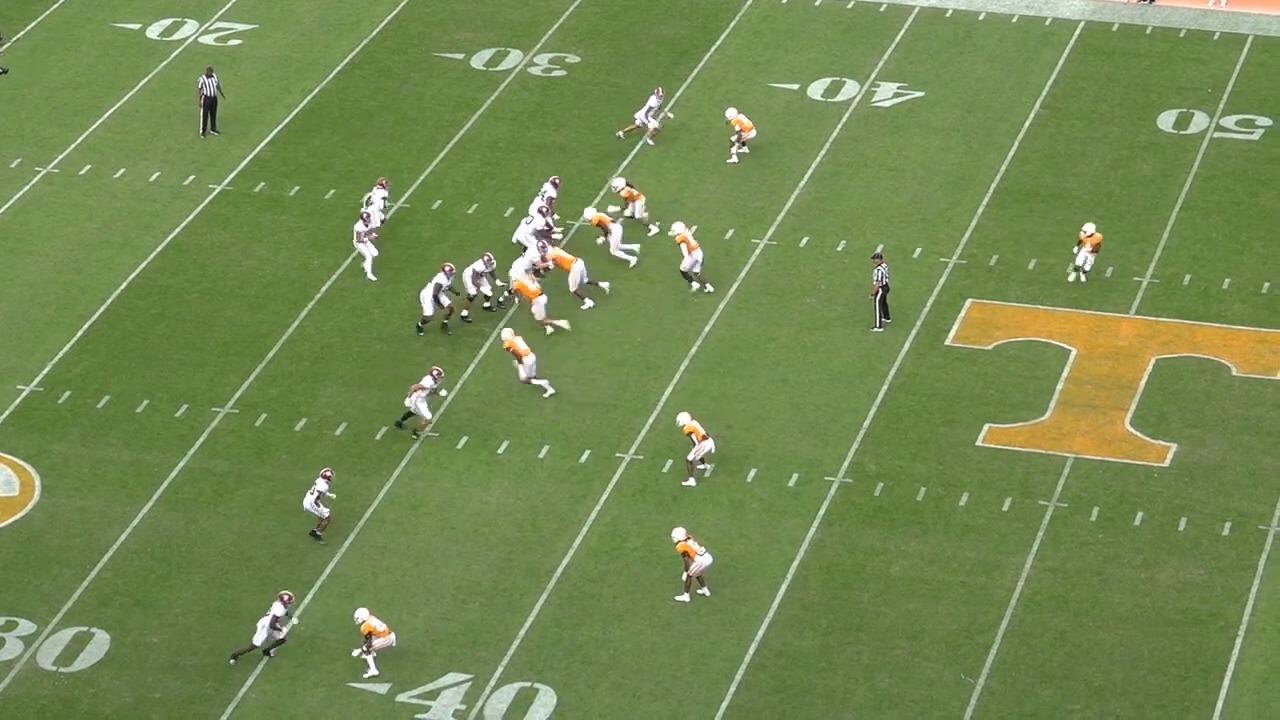defense: (545, 242, 616, 311), (500, 327, 561, 403), (509, 268, 573, 340), (343, 600, 393, 680), (583, 206, 643, 271), (665, 522, 711, 605), (675, 218, 721, 298), (679, 409, 721, 492), (614, 174, 666, 240), (1060, 219, 1100, 286), (726, 101, 763, 167)
oline: (415, 259, 464, 340), (501, 243, 554, 310), (463, 250, 510, 322), (524, 171, 568, 237), (510, 209, 557, 252)
qb: (350, 211, 385, 288)
ref: (863, 249, 892, 339), (196, 66, 227, 143)
skill: (223, 586, 298, 671), (398, 363, 454, 443), (619, 85, 676, 151), (299, 465, 339, 548), (365, 174, 395, 251)
